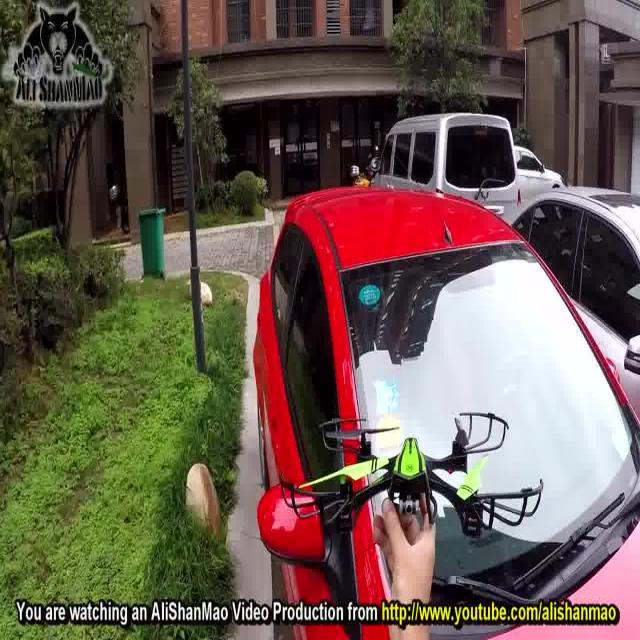drones: (274, 401, 550, 548)
